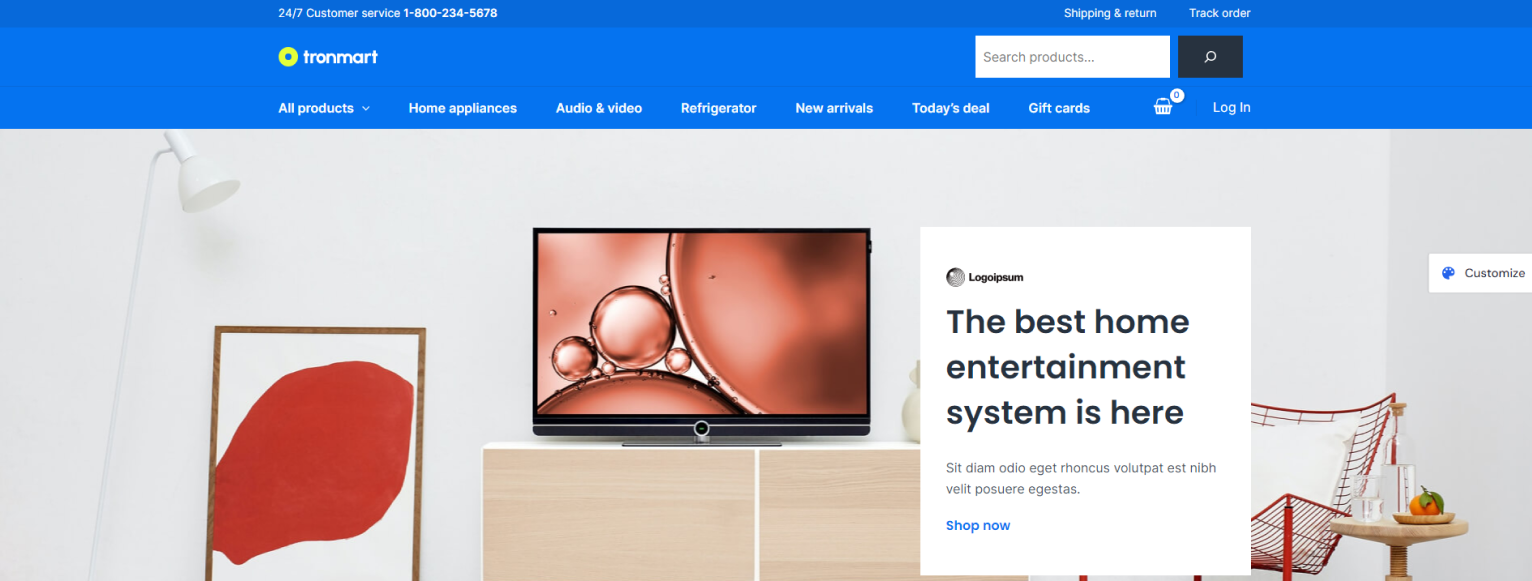menu: (23, 5, 1508, 163)
